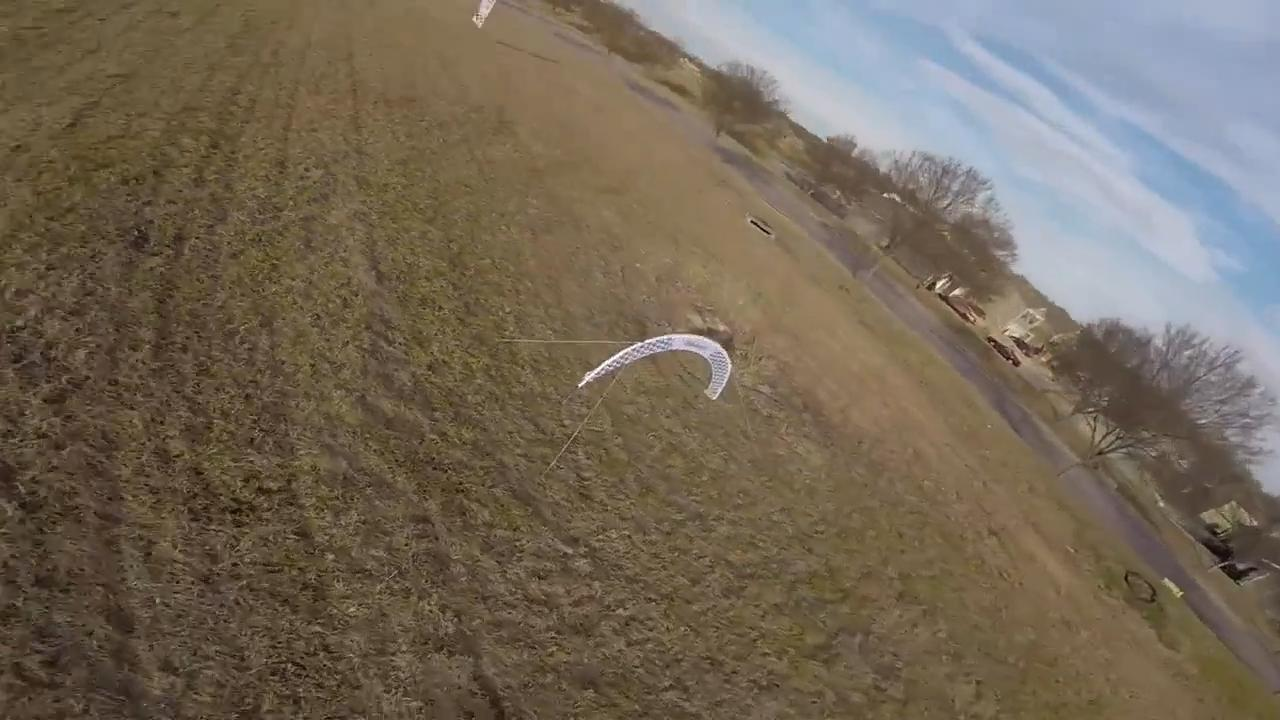gate: (578, 330, 734, 411)
